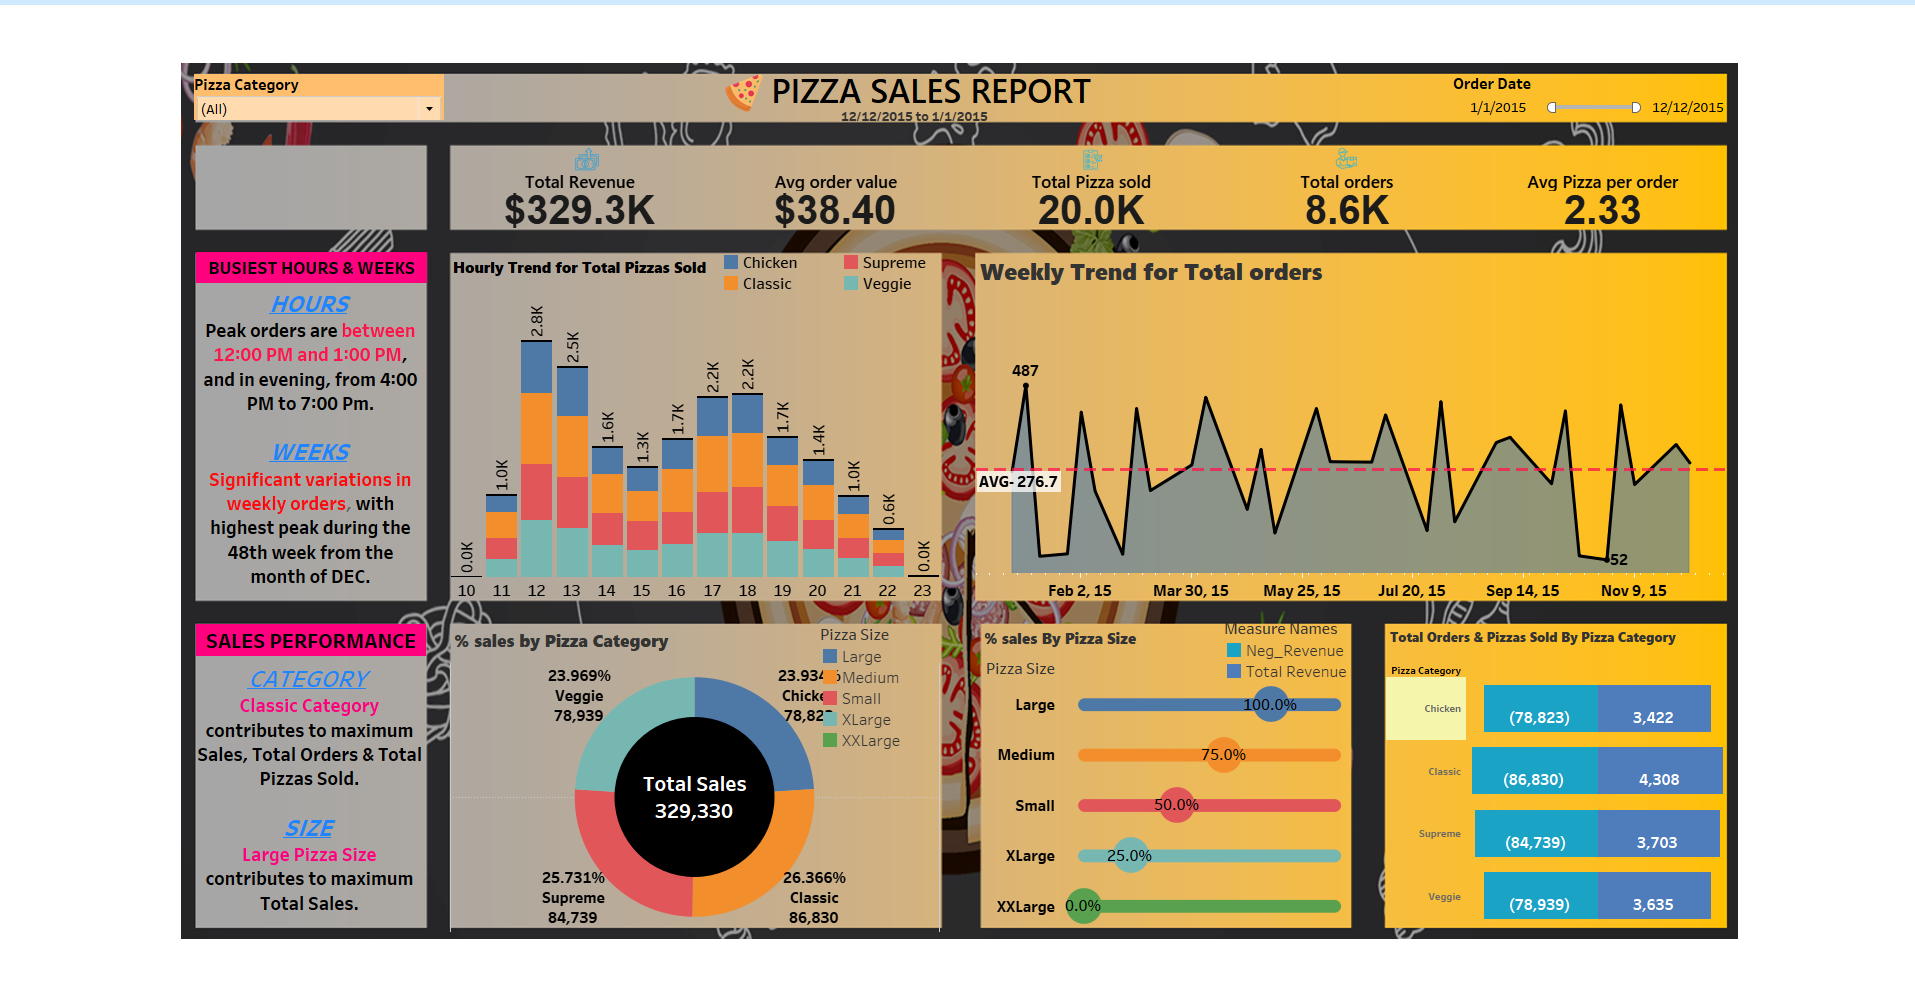

The dashboard page shown, as its layout file describes it:
{"tool":"tableau","page":{"name":"Dashboard 1","canvas":[1600,900],"ordinal":0},"visuals":[{"type":"image","param":"C:/Users/salma/OneDrive/Desktop/Tableau_Data/pizza_sales_background.png","box":[8,8,1584,884]},{"type":"image","param":"D:/Downloads/Tableau Tutorial -20241008T174154Z-001/Tableau Tutorial/Pizza Sales","box":[562,22,44,39]},{"type":"text","box":[608,22,327,32]},{"type":"filter","title":"Hourly Trend forTotal Pizzas sold","param":"[federated.0jikpc61xjph9s16az8lp0pm8ctw].[none:order_date:qk]","box":[1293,22,282,50]},{"type":"filter","title":"Hourly Trend forTotal Pizzas sold","param":"[federated.0jikpc61xjph9s16az8lp0pm8ctw].[none:pizza_category:nk]","box":[34,23,250,46]},{"type":"worksheet","title":"Date Range","mark":"Automatic","box":[644,61,222,9]},{"type":"image","param":"D:/Downloads/Tableau Tutorial -20241008T174154Z-001/Tableau Tutorial/Pizza Sales","box":[394,94,65,27]},{"type":"image","param":"D:/Downloads/Tableau Tutorial -20241008T174154Z-001/Tableau Tutorial/Pizza Sales","box":[1170,96,33,22]},{"type":"image","param":"D:/Downloads/Tableau Tutorial -20241008T174154Z-001/Tableau Tutorial/Pizza Sales","box":[909,98,47,21]},{"type":"worksheet","title":"KPI","mark":"Automatic","box":[292,120,1279,59]},{"type":"worksheet","title":"Weekly Trend for Total orders","mark":"Area","rows":["Calculation_2512445645265821696","Calculation_2512445645265821696"],"cols":["order_date"],"box":[816,200,749,352]},{"type":"text","box":[36,201,231,31]},{"type":"legend","title":"Hourly Trend forTotal Pizzas sold","param":"[federated.0jikpc61xjph9s16az8lp0pm8ctw].[none:pizza_category:nk]","box":[561,201,252,48]},{"type":"worksheet","title":"Hourly Trend forTotal Pizzas sold","mark":"Bar","rows":["Calculation_2512445645267087363","Calculation_2512445645267087363"],"cols":["order_time"],"box":[289,202,492,349]},{"type":"text","box":[37,231,227,319]},{"type":"legend","title":"Butterfly chart","param":"[federated.0jikpc61xjph9s16az8lp0pm8ctw].[:Measure Names]","box":[1064,567,140,64]},{"type":"text","box":[36,573,230,32]},{"type":"legend","title":"% sales By Pizza Size","param":"[federated.0jikpc61xjph9s16az8lp0pm8ctw].[none:pizza_size:nk]","box":[660,573,140,127]},{"type":"worksheet","title":"% sales By Pizza Size","mark":"Line","rows":["pizza_size"],"box":[820,573,373,307]},{"type":"worksheet","title":"Butterfly chart","mark":"Automatic","rows":["pizza_category"],"cols":["Calculation_2512445645965512715","Calculation_2512445645266391041"],"box":[1226,573,343,303]},{"type":"worksheet","title":"Percentage of Sales by Pizza Category","mark":"Pie","rows":["Calculation_2512445645935116294","Calculation_2512445645935165448"],"box":[290,574,490,307]},{"type":"text","box":[34,605,231,271]}]}

Visuals, with their boxes on the page's 1600x900 design canvas (x1, y1, x2, y2). These are canvas units, not pixel positions in the 1915x987 screenshot, which may show the page scaled, cropped or inside an application window:
image: (8,8,1592,892)
image: (562,22,606,61)
text: (608,22,935,54)
"Hourly Trend forTotal Pizzas sold" filter: (1293,22,1575,72)
"Hourly Trend forTotal Pizzas sold" filter: (34,23,284,69)
"Date Range" worksheet: (644,61,866,70)
image: (394,94,459,121)
image: (1170,96,1203,118)
image: (909,98,956,119)
"KPI" worksheet: (292,120,1571,179)
"Weekly Trend for Total orders" worksheet (Area marks): (816,200,1565,552)
text: (36,201,267,232)
"Hourly Trend forTotal Pizzas sold" legend: (561,201,813,249)
"Hourly Trend forTotal Pizzas sold" worksheet (Bar marks): (289,202,781,551)
text: (37,231,264,550)
"Butterfly chart" legend: (1064,567,1204,631)
text: (36,573,266,605)
"% sales By Pizza Size" legend: (660,573,800,700)
"% sales By Pizza Size" worksheet (Line marks): (820,573,1193,880)
"Butterfly chart" worksheet: (1226,573,1569,876)
"Percentage of Sales by Pizza Category" worksheet (Pie marks): (290,574,780,881)
text: (34,605,265,876)
